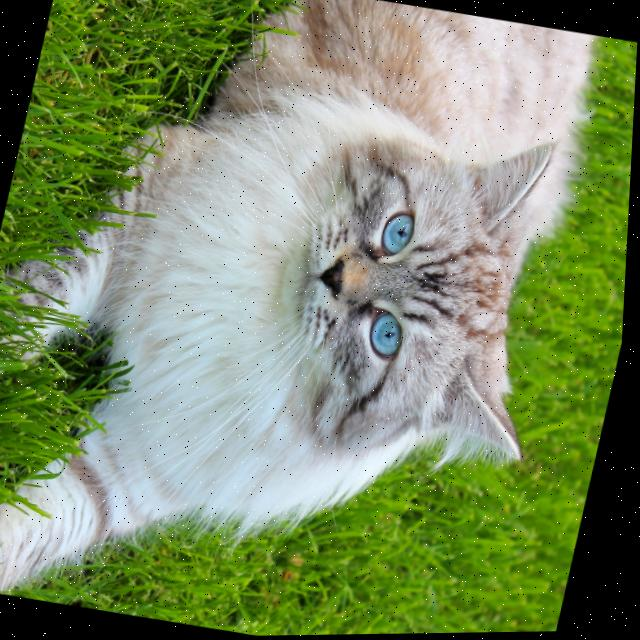Neva Masquerade: (0, 0, 627, 640)
